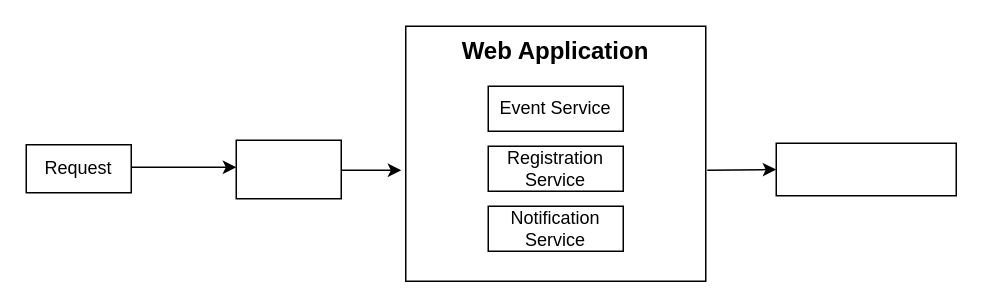
Image size: 983x308. Some labels were removed from this diagram. The shapes that lost their labels are listed below. From the top down, each one's centre as x and y in pixels, then its label:
At (288,169): "Web Server".
At (865,169): "Database Server".
